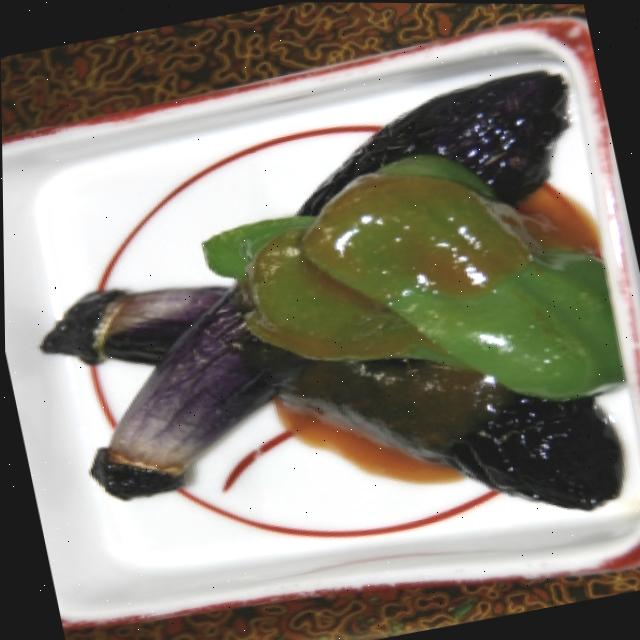鸡蛋料理: (0, 41, 640, 640)
